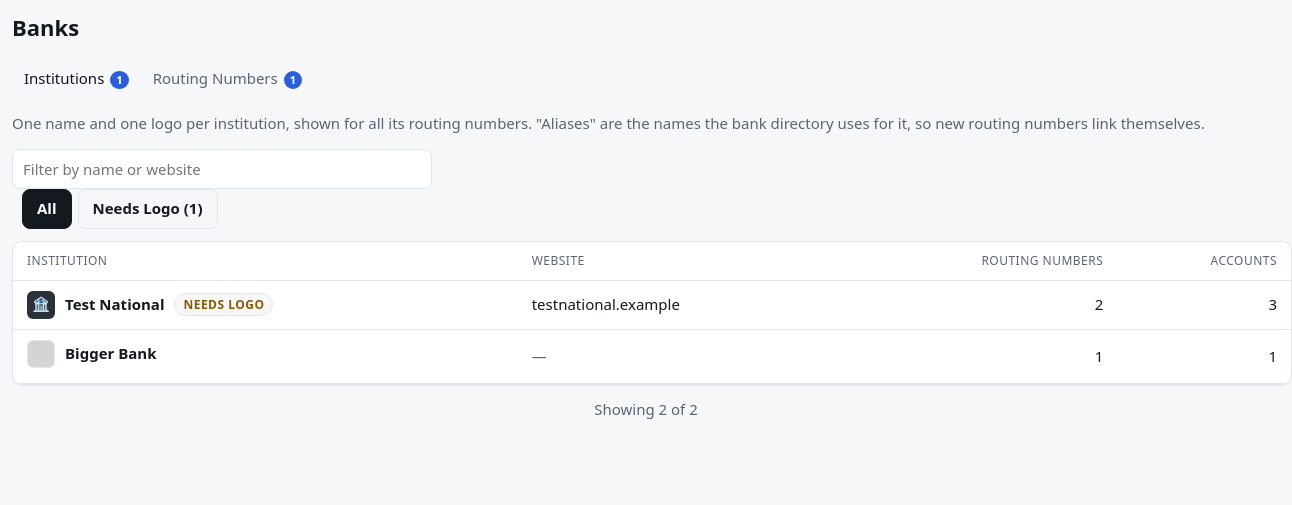
Test: Banks: institutions › a role that can only look has no buttons
Click the row "🏦 Test National needs logo testnational.example 2 3".
click(652, 304)  # box [13,280,1291,329]
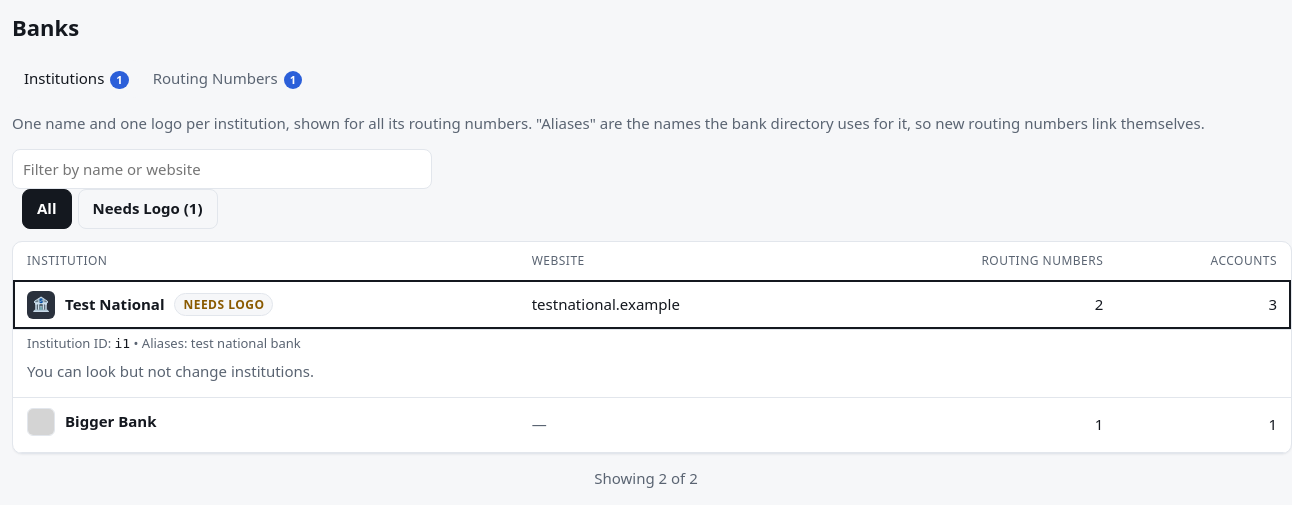
Check: the text "You can look but not change institutions." is shown, box [27,361,314,383]
